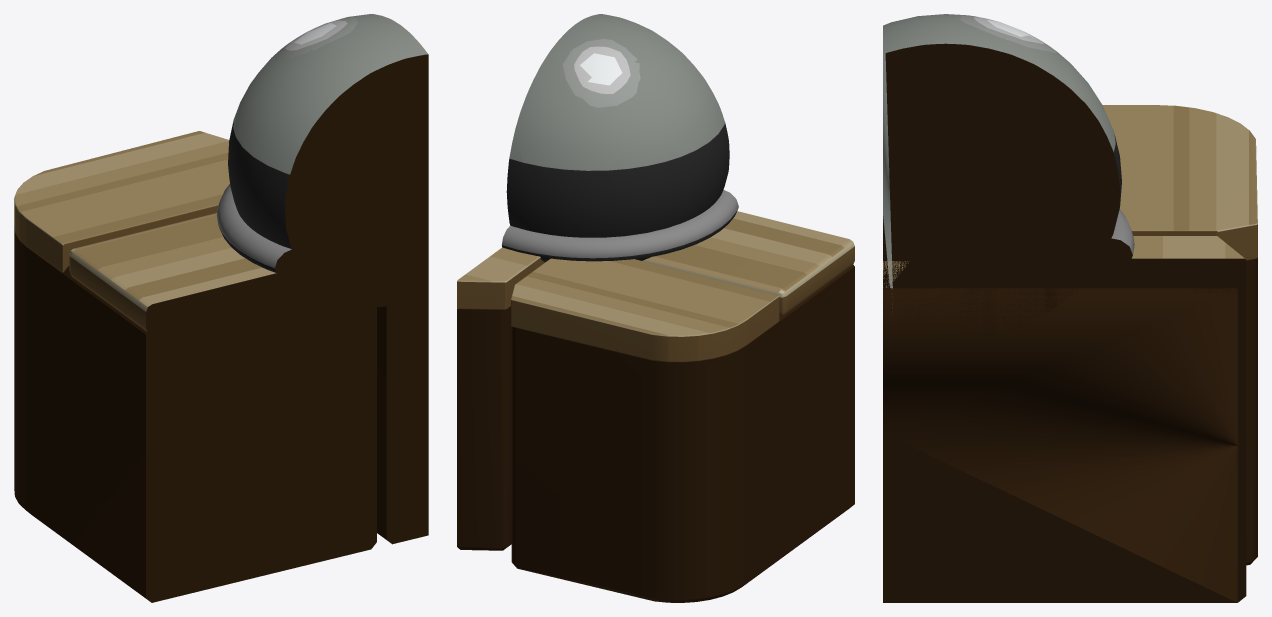
Rendered from mace_anchor_tl.glb.
The picture shows the model from 3 angles, left to right: view 1: azimuth 30°, elevation 25°; view 2: azimuth 150°, elevation 25°; view 3: azimuth 270°, elevation 25°; orthographic projection. The views are drawn at different scales.
Visible parts, largest first — view 1: left_core.001, ball.001, left_plank0.001, left_plank1.001, right_core.001, collar.001, right_plank1.001; view 2: left_core.001, ball.001, left_plank0.001, right_core.001, left_plank1.001, collar.001, right_plank0.001; view 3: right_core.001, ball.001, left_plank0.001, right_plank0.001, left_core.001, right_plank1.001, collar.001.
Part boxes in pixels (left/top/right/bottom): left_core.001: left=14, top=226, right=376, bottom=602; ball.001: left=228, top=14, right=428, bottom=306; left_plank0.001: left=14, top=131, right=229, bottom=272; left_plank1.001: left=69, top=213, right=376, bottom=332; right_core.001: left=377, top=260, right=428, bottom=544; collar.001: left=216, top=184, right=313, bottom=278; right_plank1.001: left=386, top=236, right=428, bottom=274; left_core.001: left=511, top=264, right=854, bottom=602; ball.001: left=506, top=14, right=729, bottom=237; left_plank0.001: left=511, top=258, right=779, bottom=361; right_core.001: left=457, top=306, right=511, bottom=550; left_plank1.001: left=642, top=211, right=854, bottom=314; collar.001: left=502, top=189, right=738, bottom=262; right_plank0.001: left=457, top=247, right=544, bottom=309; right_core.001: left=883, top=288, right=1246, bottom=602; ball.001: left=883, top=14, right=1121, bottom=340; left_plank0.001: left=1102, top=105, right=1257, bottom=260; right_plank0.001: left=1073, top=236, right=1246, bottom=294; left_core.001: left=1246, top=257, right=1257, bottom=565; right_plank1.001: left=883, top=261, right=1064, bottom=288; collar.001: left=1084, top=209, right=1134, bottom=272.
Bounding box in the file's own units: 14.8 × 24.6 × 14.9.
